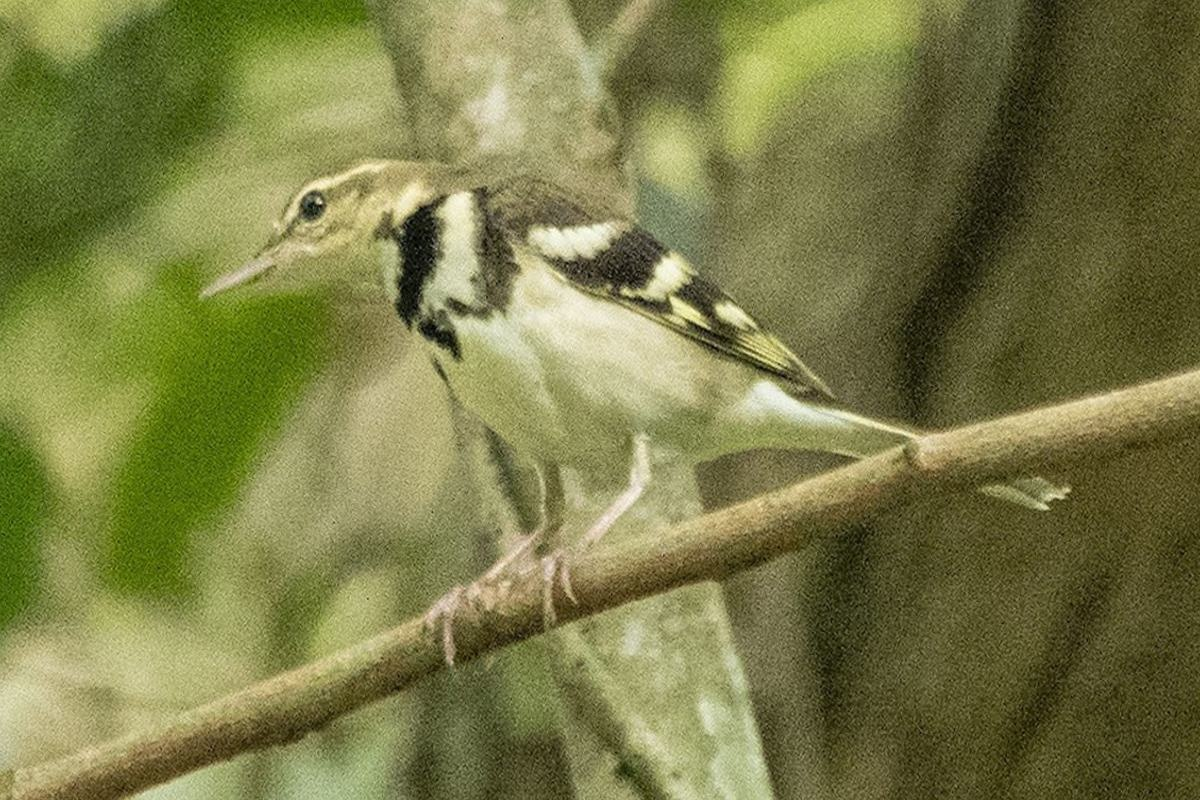wagtail: (194, 135, 934, 484)
